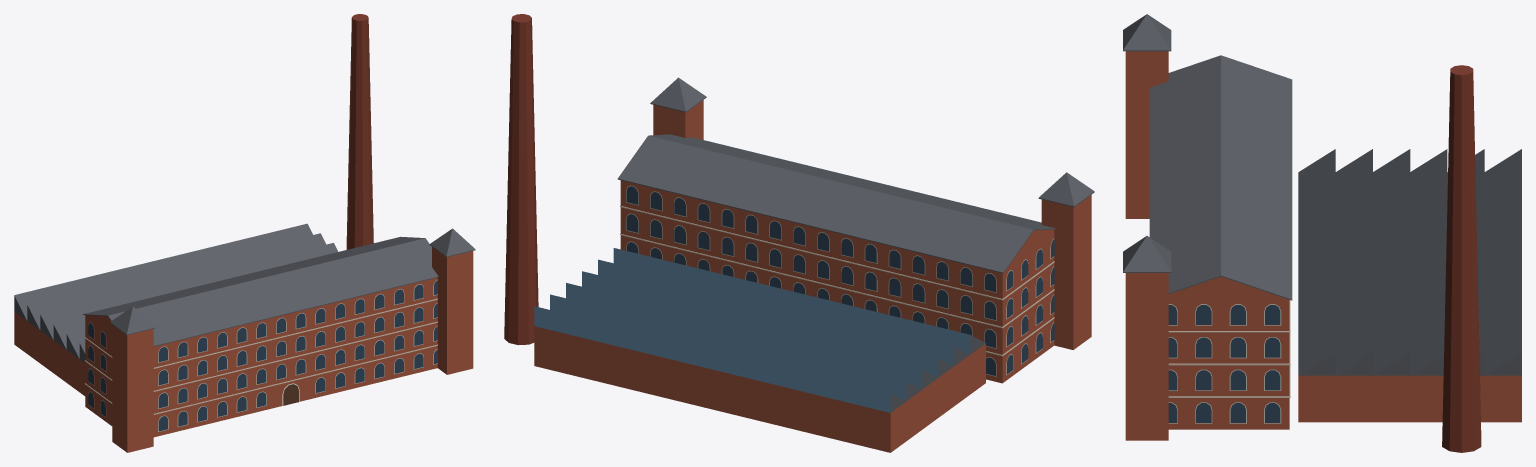
The model's file is usine_textile.glb.
The picture shows the model from 3 angles, left to right: view 1: azimuth 30°, elevation 25°; view 2: azimuth 150°, elevation 25°; view 3: azimuth 270°, elevation 25°; orthographic projection. The views are drawn at different scales.
Parts seen in each view (by area): view 1: usine_textile; view 2: usine_textile; view 3: usine_textile.
Boxes of the visible parts, x1,y1,x2,y2 form: usine_textile: (14,14,475,452); usine_textile: (504,14,1094,452); usine_textile: (1123,14,1521,452).
Bounding box in the file's own units: 69.7 × 48 × 46.4.
1 material, 1 textured.
